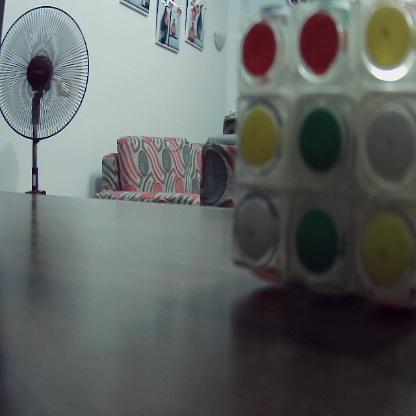Rubix Cube: (236, 7, 415, 294)
